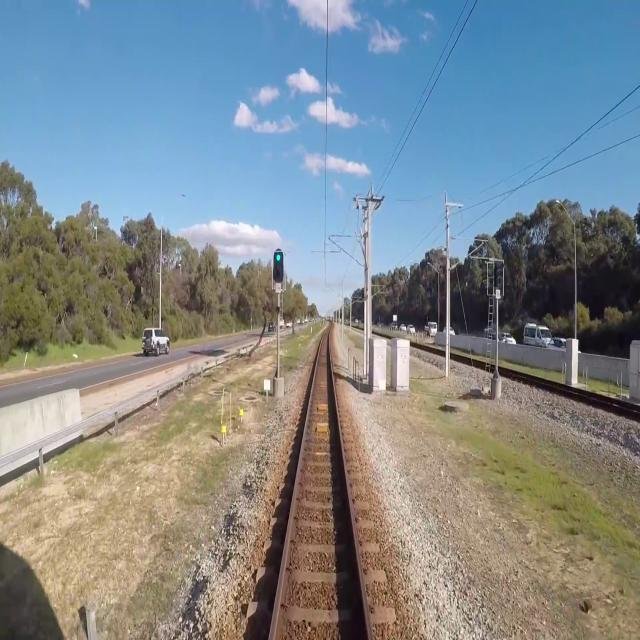rail-track: (274, 329, 367, 639)
